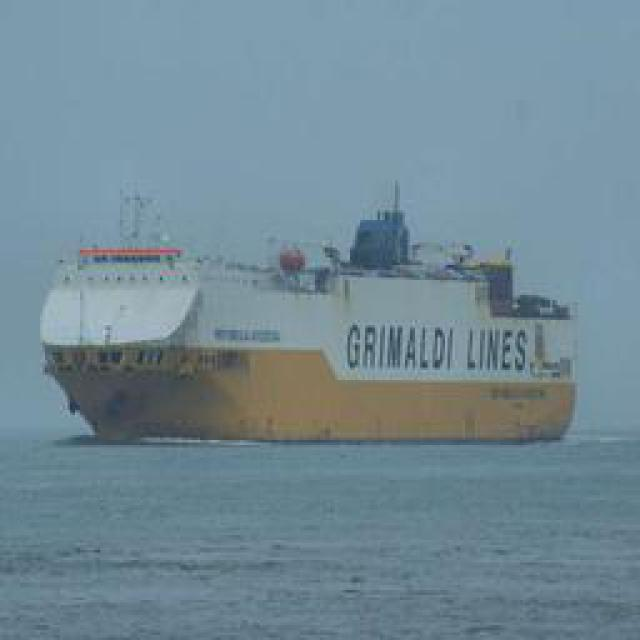Ship: (44, 203, 594, 448)
